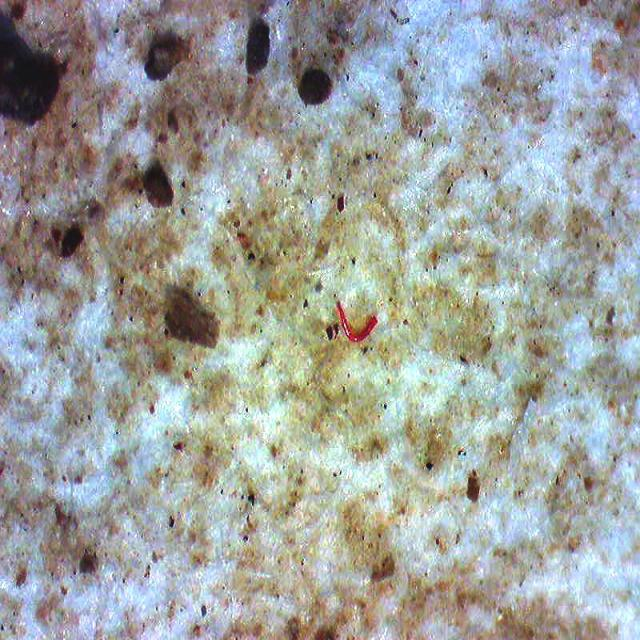microplastic: (338, 301, 378, 341)
